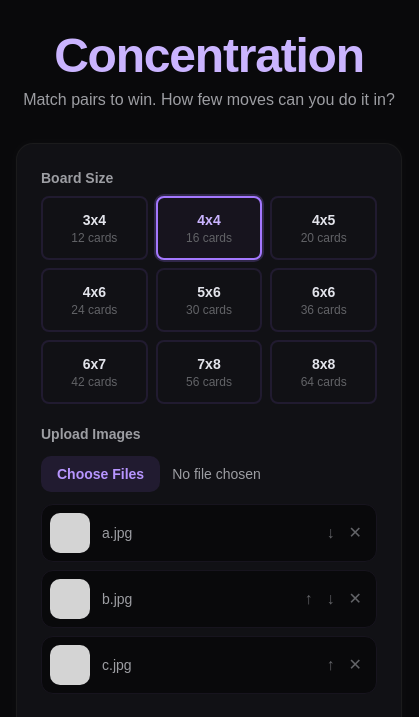
Test: SetupScreen › pair count messaging › pair count updates when selecting a different preset
This screenshot has width=419, height=717.
Click the text "3x4" at (94, 220), box x1=83 y1=212 x2=106 y2=228
(page scrolled)
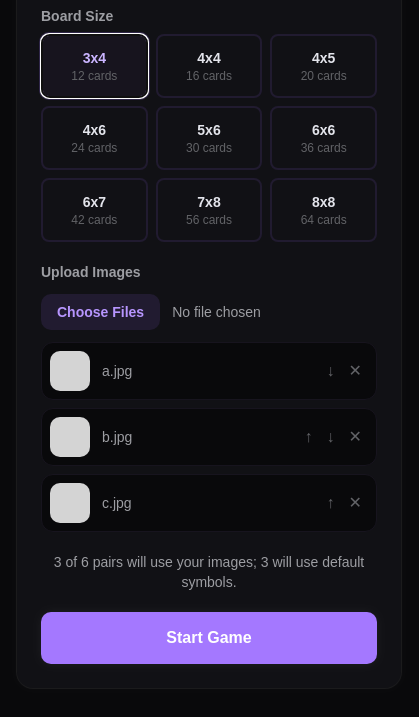
Now the text "3 of 6 pairs will use your images" is shown, box x1=41 y1=552 x2=377 y2=592
